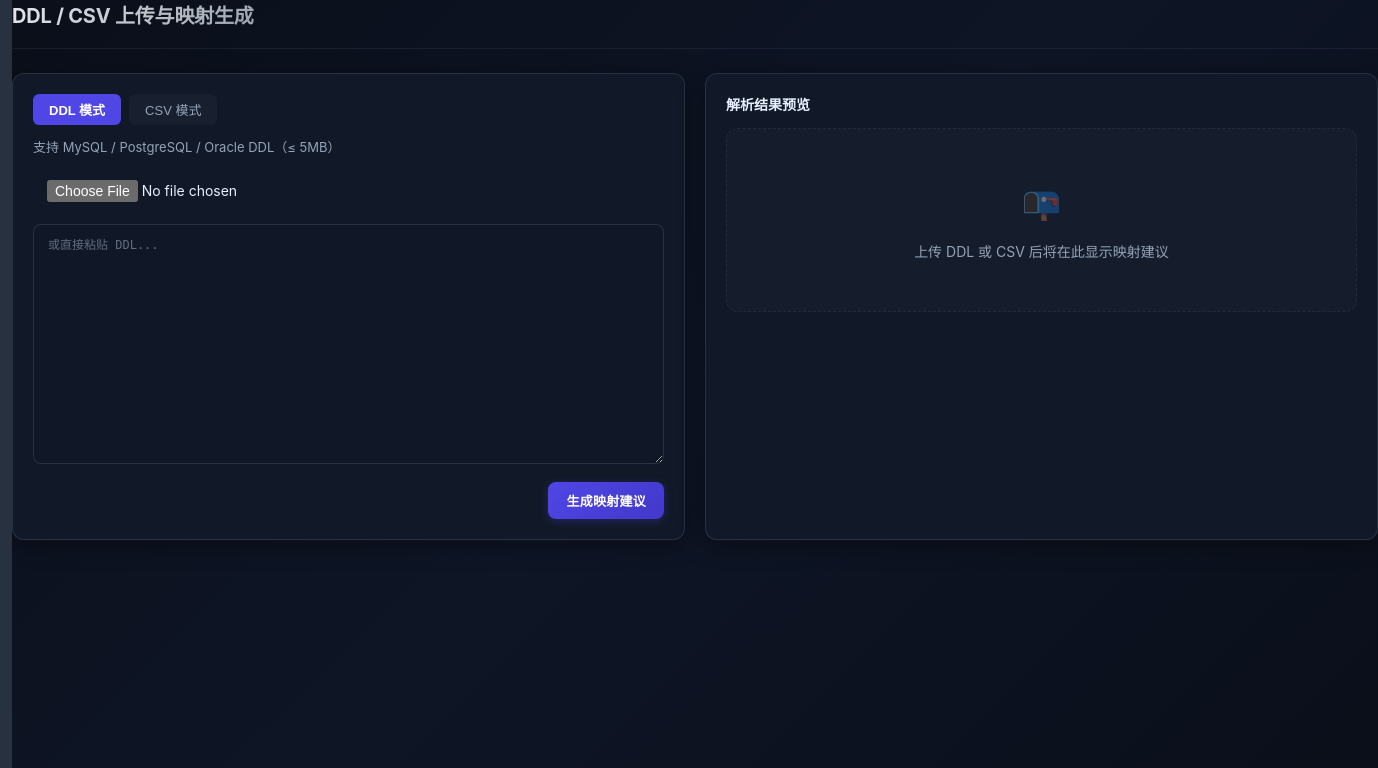
Test: DdlUploadPage 错误处理 › mappingApi.generate 返回错误时显示 ErrorBox
The width and height of the screenshot is (1378, 768).
Type "INVALID DDL;" into the text box with placeholder "或直接粘贴 DDL..." at (348, 344), box [33,224,664,464]
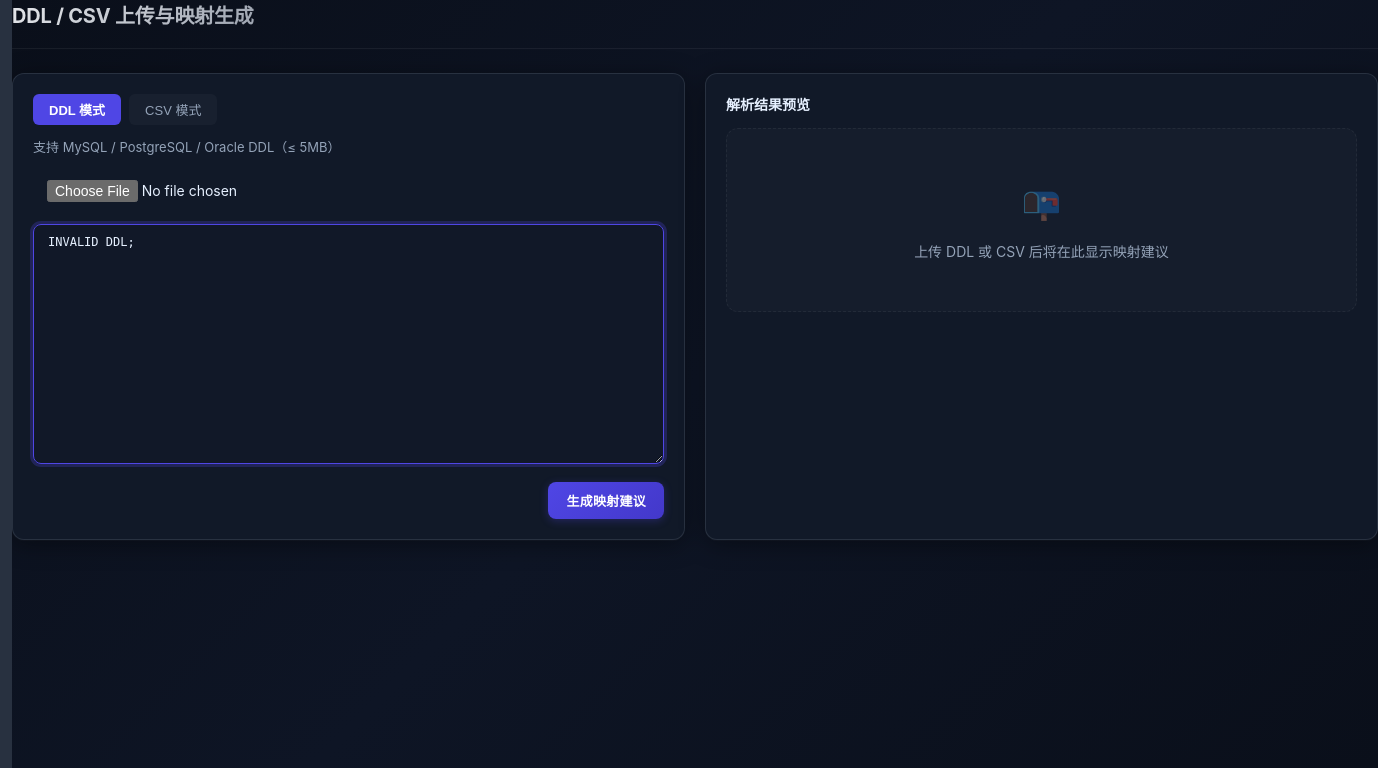
Click the button "生成映射建议" at (606, 501), box [548,482,664,519]
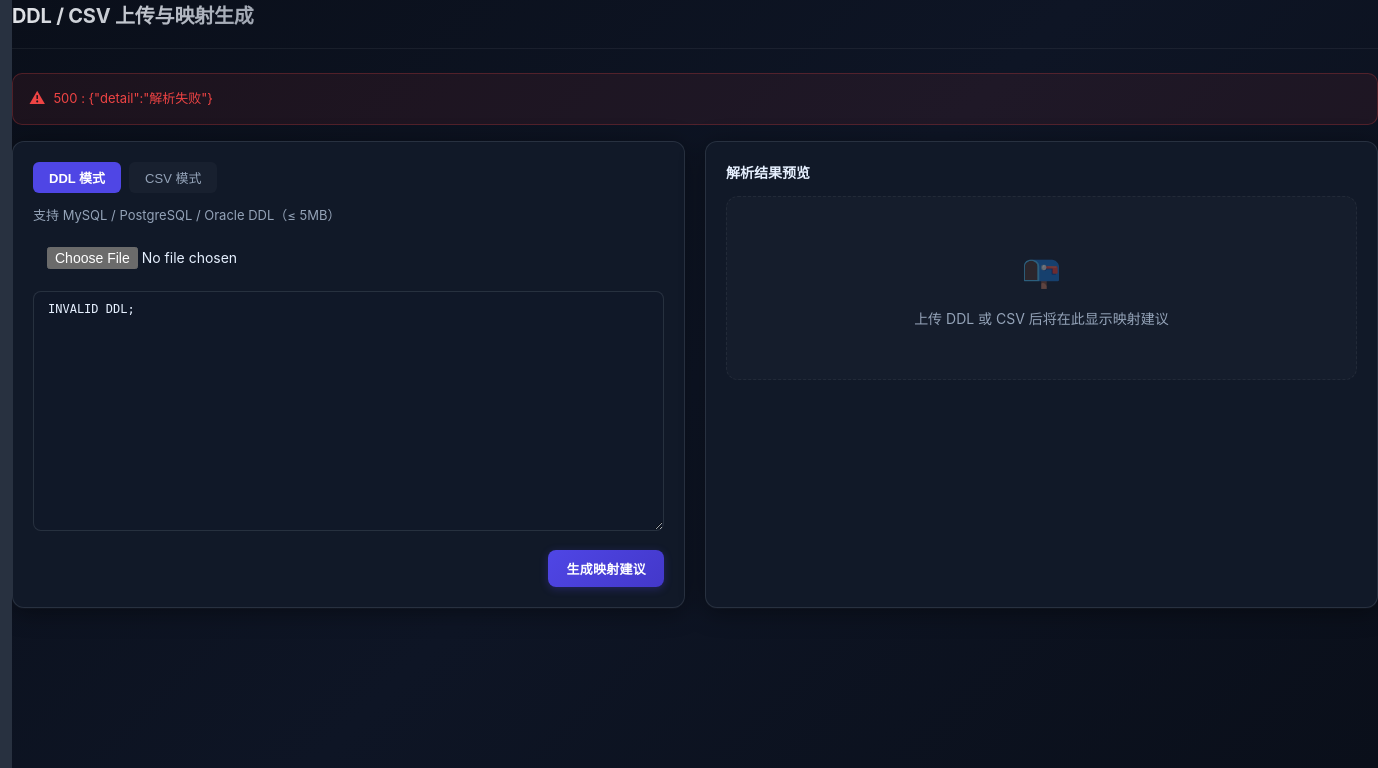
Expected: the text "⚠ 500 : {\"detail\":\"解析失败\"}" is shown, [12,73,1377,125]
